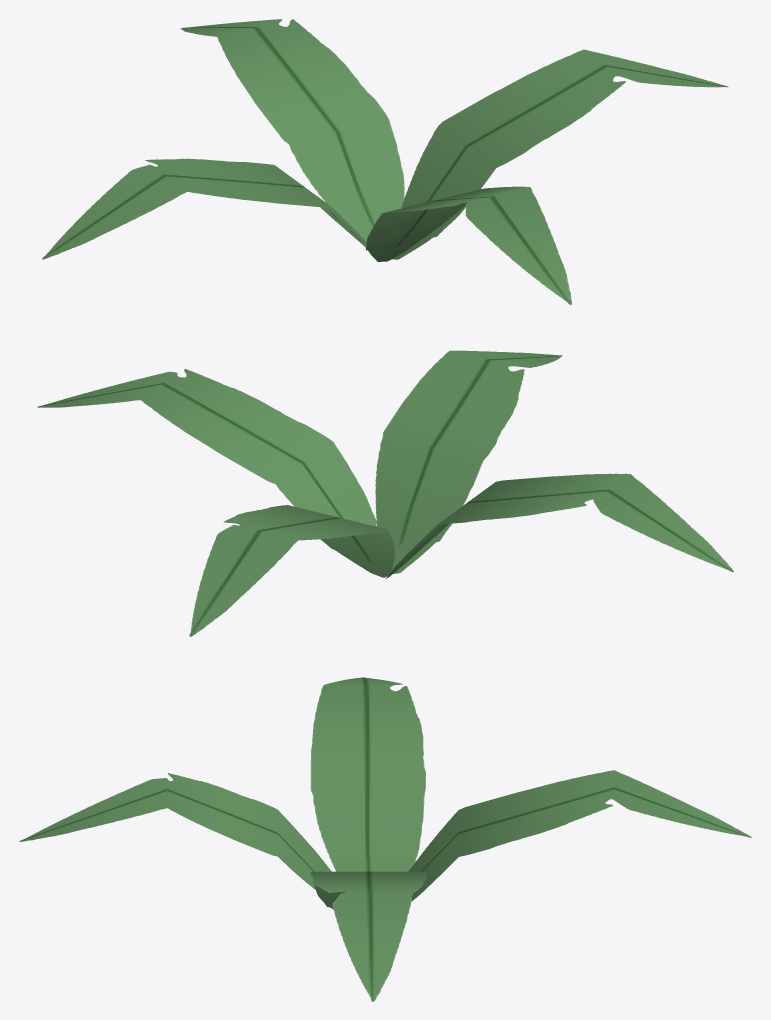
Rendered from Weed_02.fbx.
3 renders of one model, top to bottom at view 1: azimuth 30°, elevation 25°; view 2: azimuth 150°, elevation 25°; view 3: azimuth 270°, elevation 25°, orthographic. The views are drawn at different scales.
Visible parts, largest first — view 1: Plane.061; view 2: Plane.061; view 3: Plane.061.
Part boxes in pixels (x1,y1,x2,y2): Plane.061: (42, 19, 728, 304); Plane.061: (37, 350, 733, 636); Plane.061: (19, 677, 751, 1001).
Size of the model in its own units: 75.24 by 14.58 by 71.9.
Materials: 1 (1 with a texture image).
